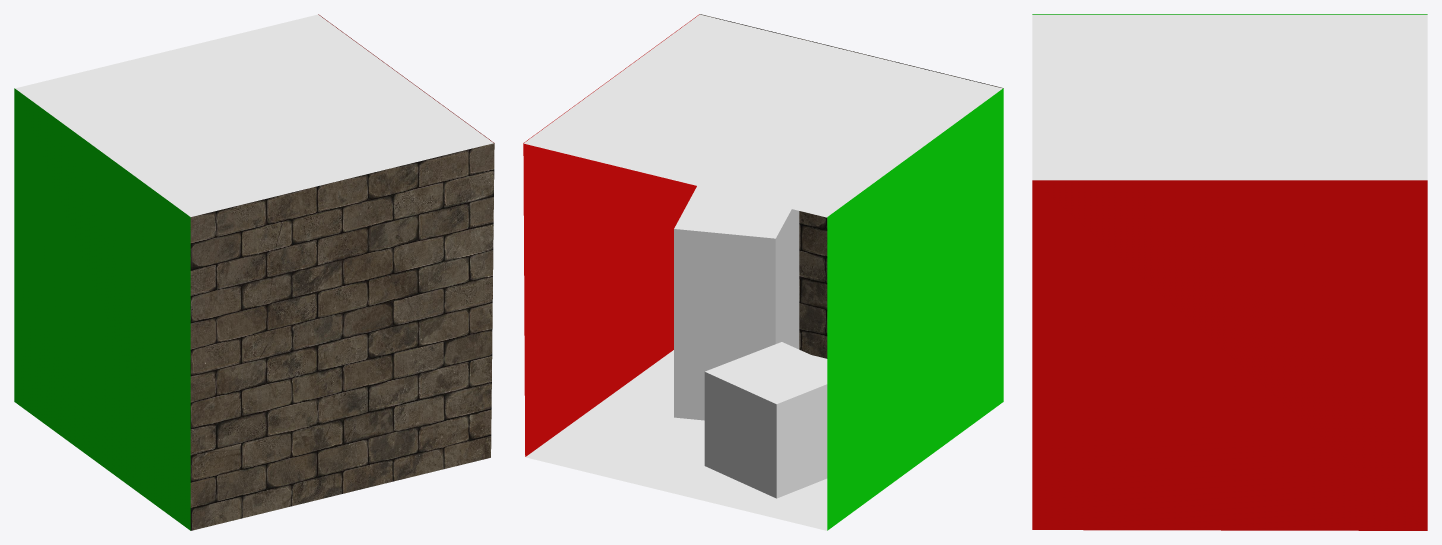
The model's file is cornell_box_v2.gltf.
3 views of the same model, side by side, from view 1: azimuth 30°, elevation 25°; view 2: azimuth 150°, elevation 25°; view 3: azimuth 270°, elevation 25° (orthographic). The views are drawn at different scales.
Parts seen in each view (by area): view 1: BackWallObj, RightWallObj, CeilingObj; view 2: RightWallObj, CeilingObj, LeftWallObj, TallBlockObj, FloorObj, ShortBlockObj, BackWallObj; view 3: LeftWallObj, CeilingObj.
Boxes of the visible parts, left/top/right/bottom form: BackWallObj: left=190, top=143, right=494, bottom=530; RightWallObj: left=14, top=88, right=190, bottom=530; CeilingObj: left=15, top=14, right=493, bottom=216; RightWallObj: left=827, top=88, right=1003, bottom=530; CeilingObj: left=524, top=14, right=1002, bottom=217; LeftWallObj: left=523, top=14, right=699, bottom=456; TallBlockObj: left=674, top=186, right=799, bottom=420; FloorObj: left=525, top=350, right=827, bottom=530; ShortBlockObj: left=704, top=342, right=827, bottom=498; BackWallObj: left=700, top=14, right=1003, bottom=358; LeftWallObj: left=1032, top=180, right=1427, bottom=530; CeilingObj: left=1032, top=14, right=1427, bottom=180.
Size of the model in its own units: 5.56 by 5.49 by 5.59.
